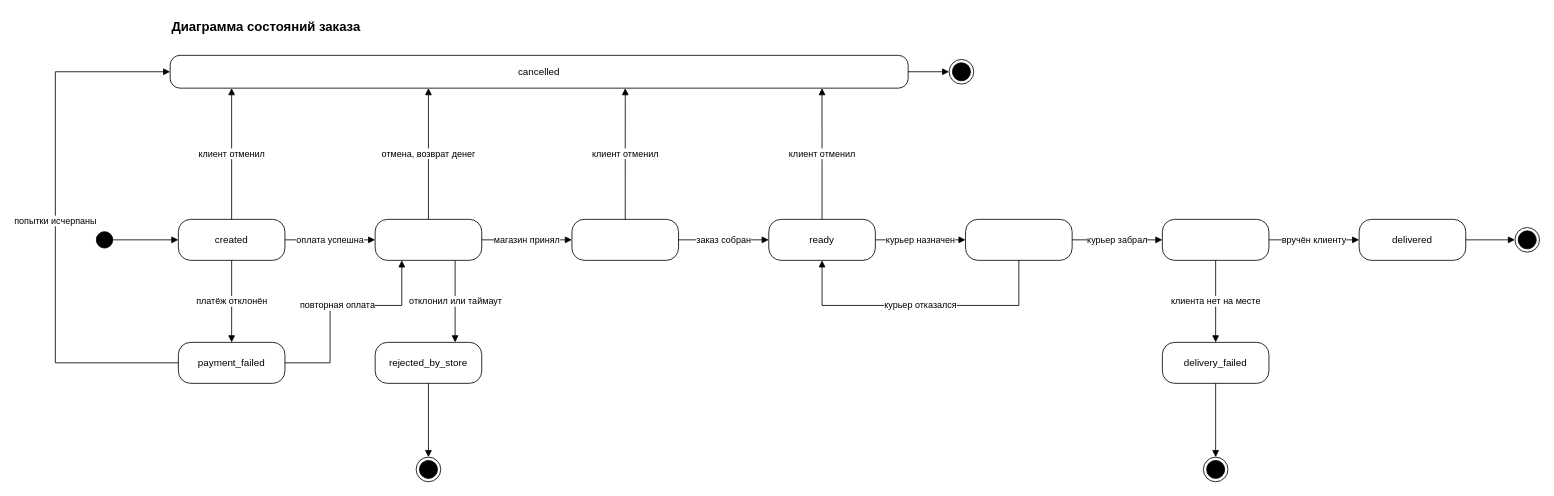
Some shapes in this 1554 by 496 pixel diagram are drawn without their labels. The shapes that lost their labels are listed below. From the top down, each one's centre as x and y in pixels, then its label:
the point at 428,239: paid
the point at 625,239: accepted_by_store
the point at 1018,239: assigned_to_courier
the point at 1215,239: in_delivery
